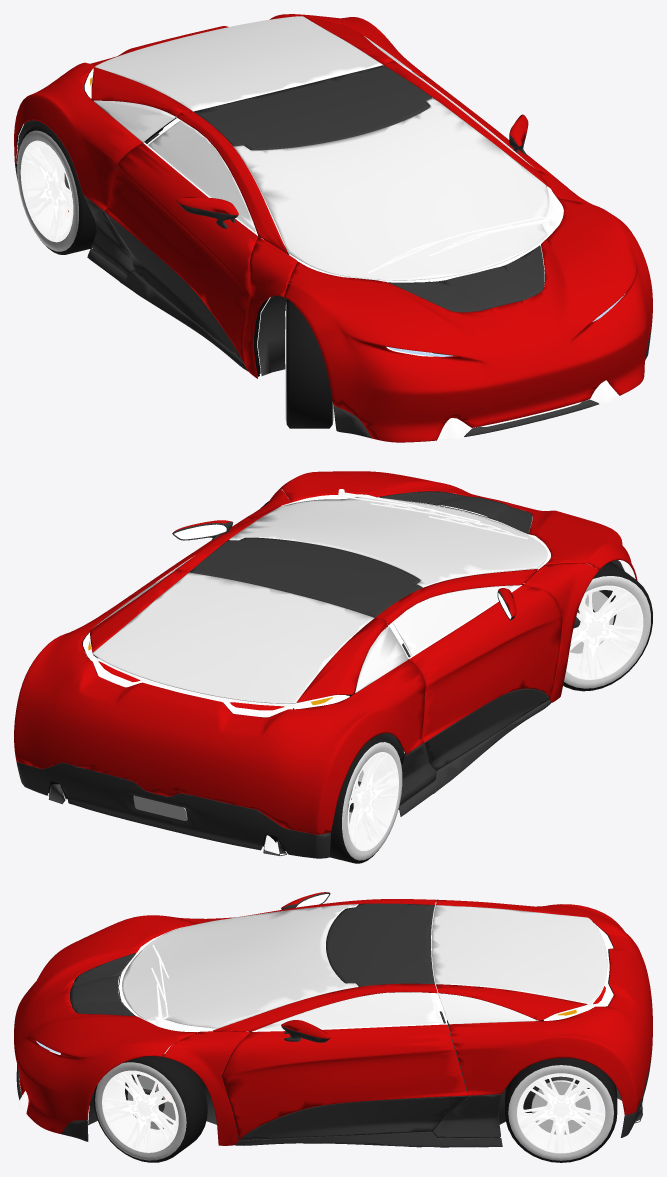
The model's file is car.glb.
3 views of the same model, one above another, from view 1: azimuth 30°, elevation 25°; view 2: azimuth 150°, elevation 25°; view 3: azimuth 270°, elevation 25° (orthographic). The views are drawn at different scales.
Visible parts, largest first — view 1: BodyHood, BodyWindshield, BodyRearwindow, BodyDoorRColor1, BodyRearPanelsColor1, BodyRoofPanel, BodyPillars, BodyPanelsColor2, BodyHoodTopgrill, WheelFrontR, BodyDoorRWindow, WheelRearRRim (+9 smaller); view 2: BodyRearPanelsColor1, BodyRearwindow, BodyWindshield, BodyDoorRColor1, BodyPanelsColor2, BodyRoofPanel, BodyHood, BodyPillars, WheelFrontRRim, BodyDoorRColor2, WheelRearRRim, BodyDoorRWindow (+8 smaller); view 3: BodyWindshield, BodyRearPanelsColor1, BodyDoorLColor1, BodyHood, BodyRearwindow, BodyRoofPanel, BodyPillars, BodyDoorLColor2, BodyPanelsColor2, WheelFrontL, WheelRearLRim, WheelFrontLRim (+12 smaller).
Part boxes in pixels (bbox=[...]): BodyHood: bbox=[284, 198, 652, 442]; BodyWindshield: bbox=[234, 98, 549, 280]; BodyRearwindow: bbox=[94, 16, 382, 111]; BodyDoorRColor1: bbox=[104, 143, 257, 362]; BodyRearPanelsColor1: bbox=[14, 14, 428, 210]; BodyRoofPanel: bbox=[193, 65, 432, 150]; BodyPillars: bbox=[176, 61, 598, 378]; BodyPanelsColor2: bbox=[15, 166, 651, 438]; BodyHoodTopgrill: bbox=[388, 245, 544, 312]; WheelFrontR: bbox=[285, 299, 333, 428]; BodyDoorRWindow: bbox=[148, 120, 257, 234]; WheelRearRRim: bbox=[20, 140, 73, 242]; BodyRearPanelsColor1: bbox=[14, 569, 425, 834]; BodyRearwindow: bbox=[92, 572, 373, 703]; BodyWindshield: bbox=[229, 497, 547, 587]; BodyDoorRColor1: bbox=[409, 585, 562, 742]; BodyPanelsColor2: bbox=[16, 700, 550, 858]; BodyRoofPanel: bbox=[189, 537, 422, 617]; BodyHood: bbox=[279, 471, 637, 580]; BodyPillars: bbox=[175, 489, 599, 702]; WheelFrontRRim: bbox=[566, 585, 643, 679]; BodyDoorRColor2: bbox=[424, 688, 549, 769]; WheelRearRRim: bbox=[347, 752, 398, 850]; BodyDoorRWindow: bbox=[392, 585, 519, 655]; BodyWindshield: bbox=[122, 904, 358, 1028]; BodyRearPanelsColor1: bbox=[436, 899, 652, 1115]; BodyDoorLColor1: bbox=[222, 1024, 467, 1140]; BodyHood: bbox=[14, 915, 196, 1133]; BodyRearwindow: bbox=[431, 905, 607, 1004]; BodyRoofPanel: bbox=[326, 903, 434, 986]; BodyPillars: bbox=[163, 899, 437, 1145]; BodyDoorLColor2: bbox=[240, 1096, 467, 1140]; BodyPanelsColor2: bbox=[16, 1045, 652, 1147]; WheelFrontL: bbox=[93, 1054, 207, 1162]; WheelRearLRim: bbox=[517, 1073, 605, 1153]; WheelFrontLRim: bbox=[102, 1070, 178, 1152].
Size of the model in its own units: 2.54 by 1.15 by 4.36.
